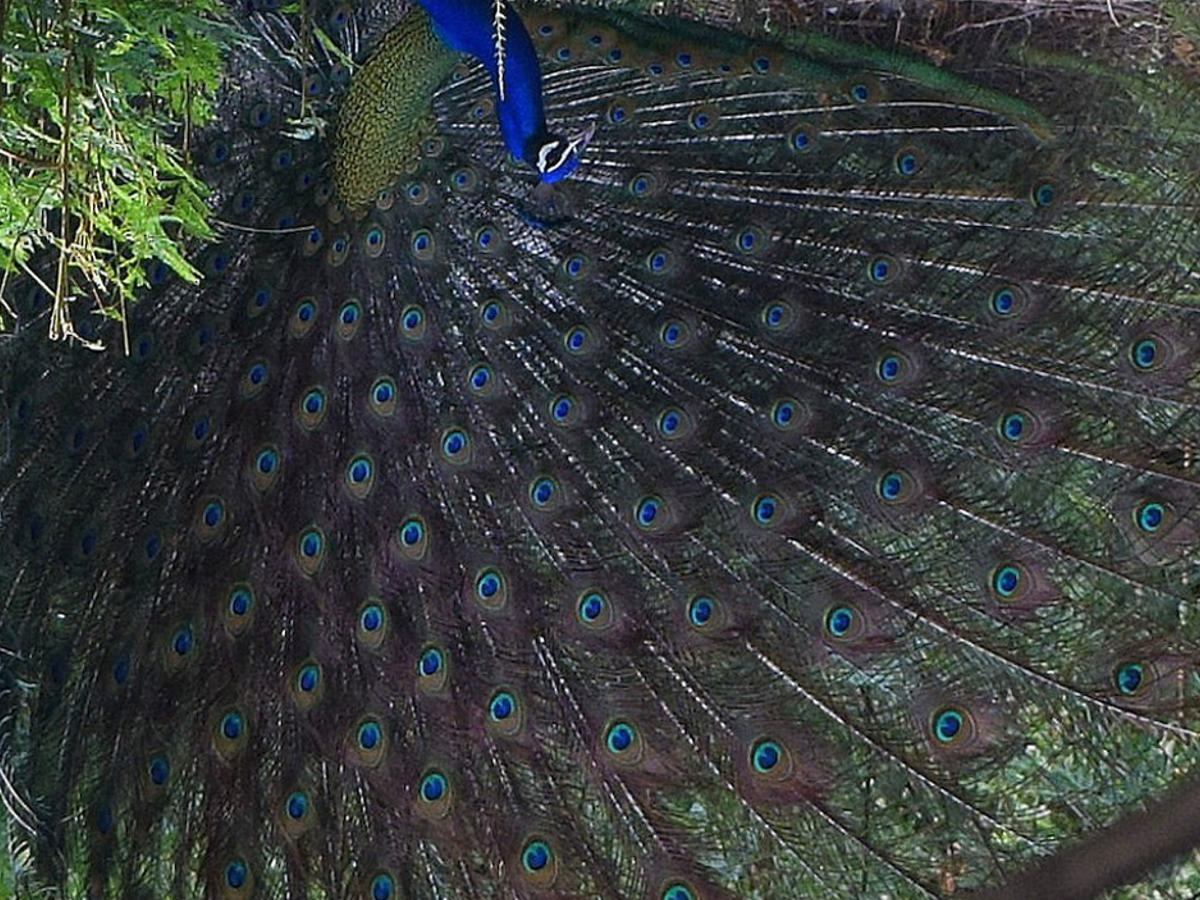peacock: (185, 1, 950, 570)
